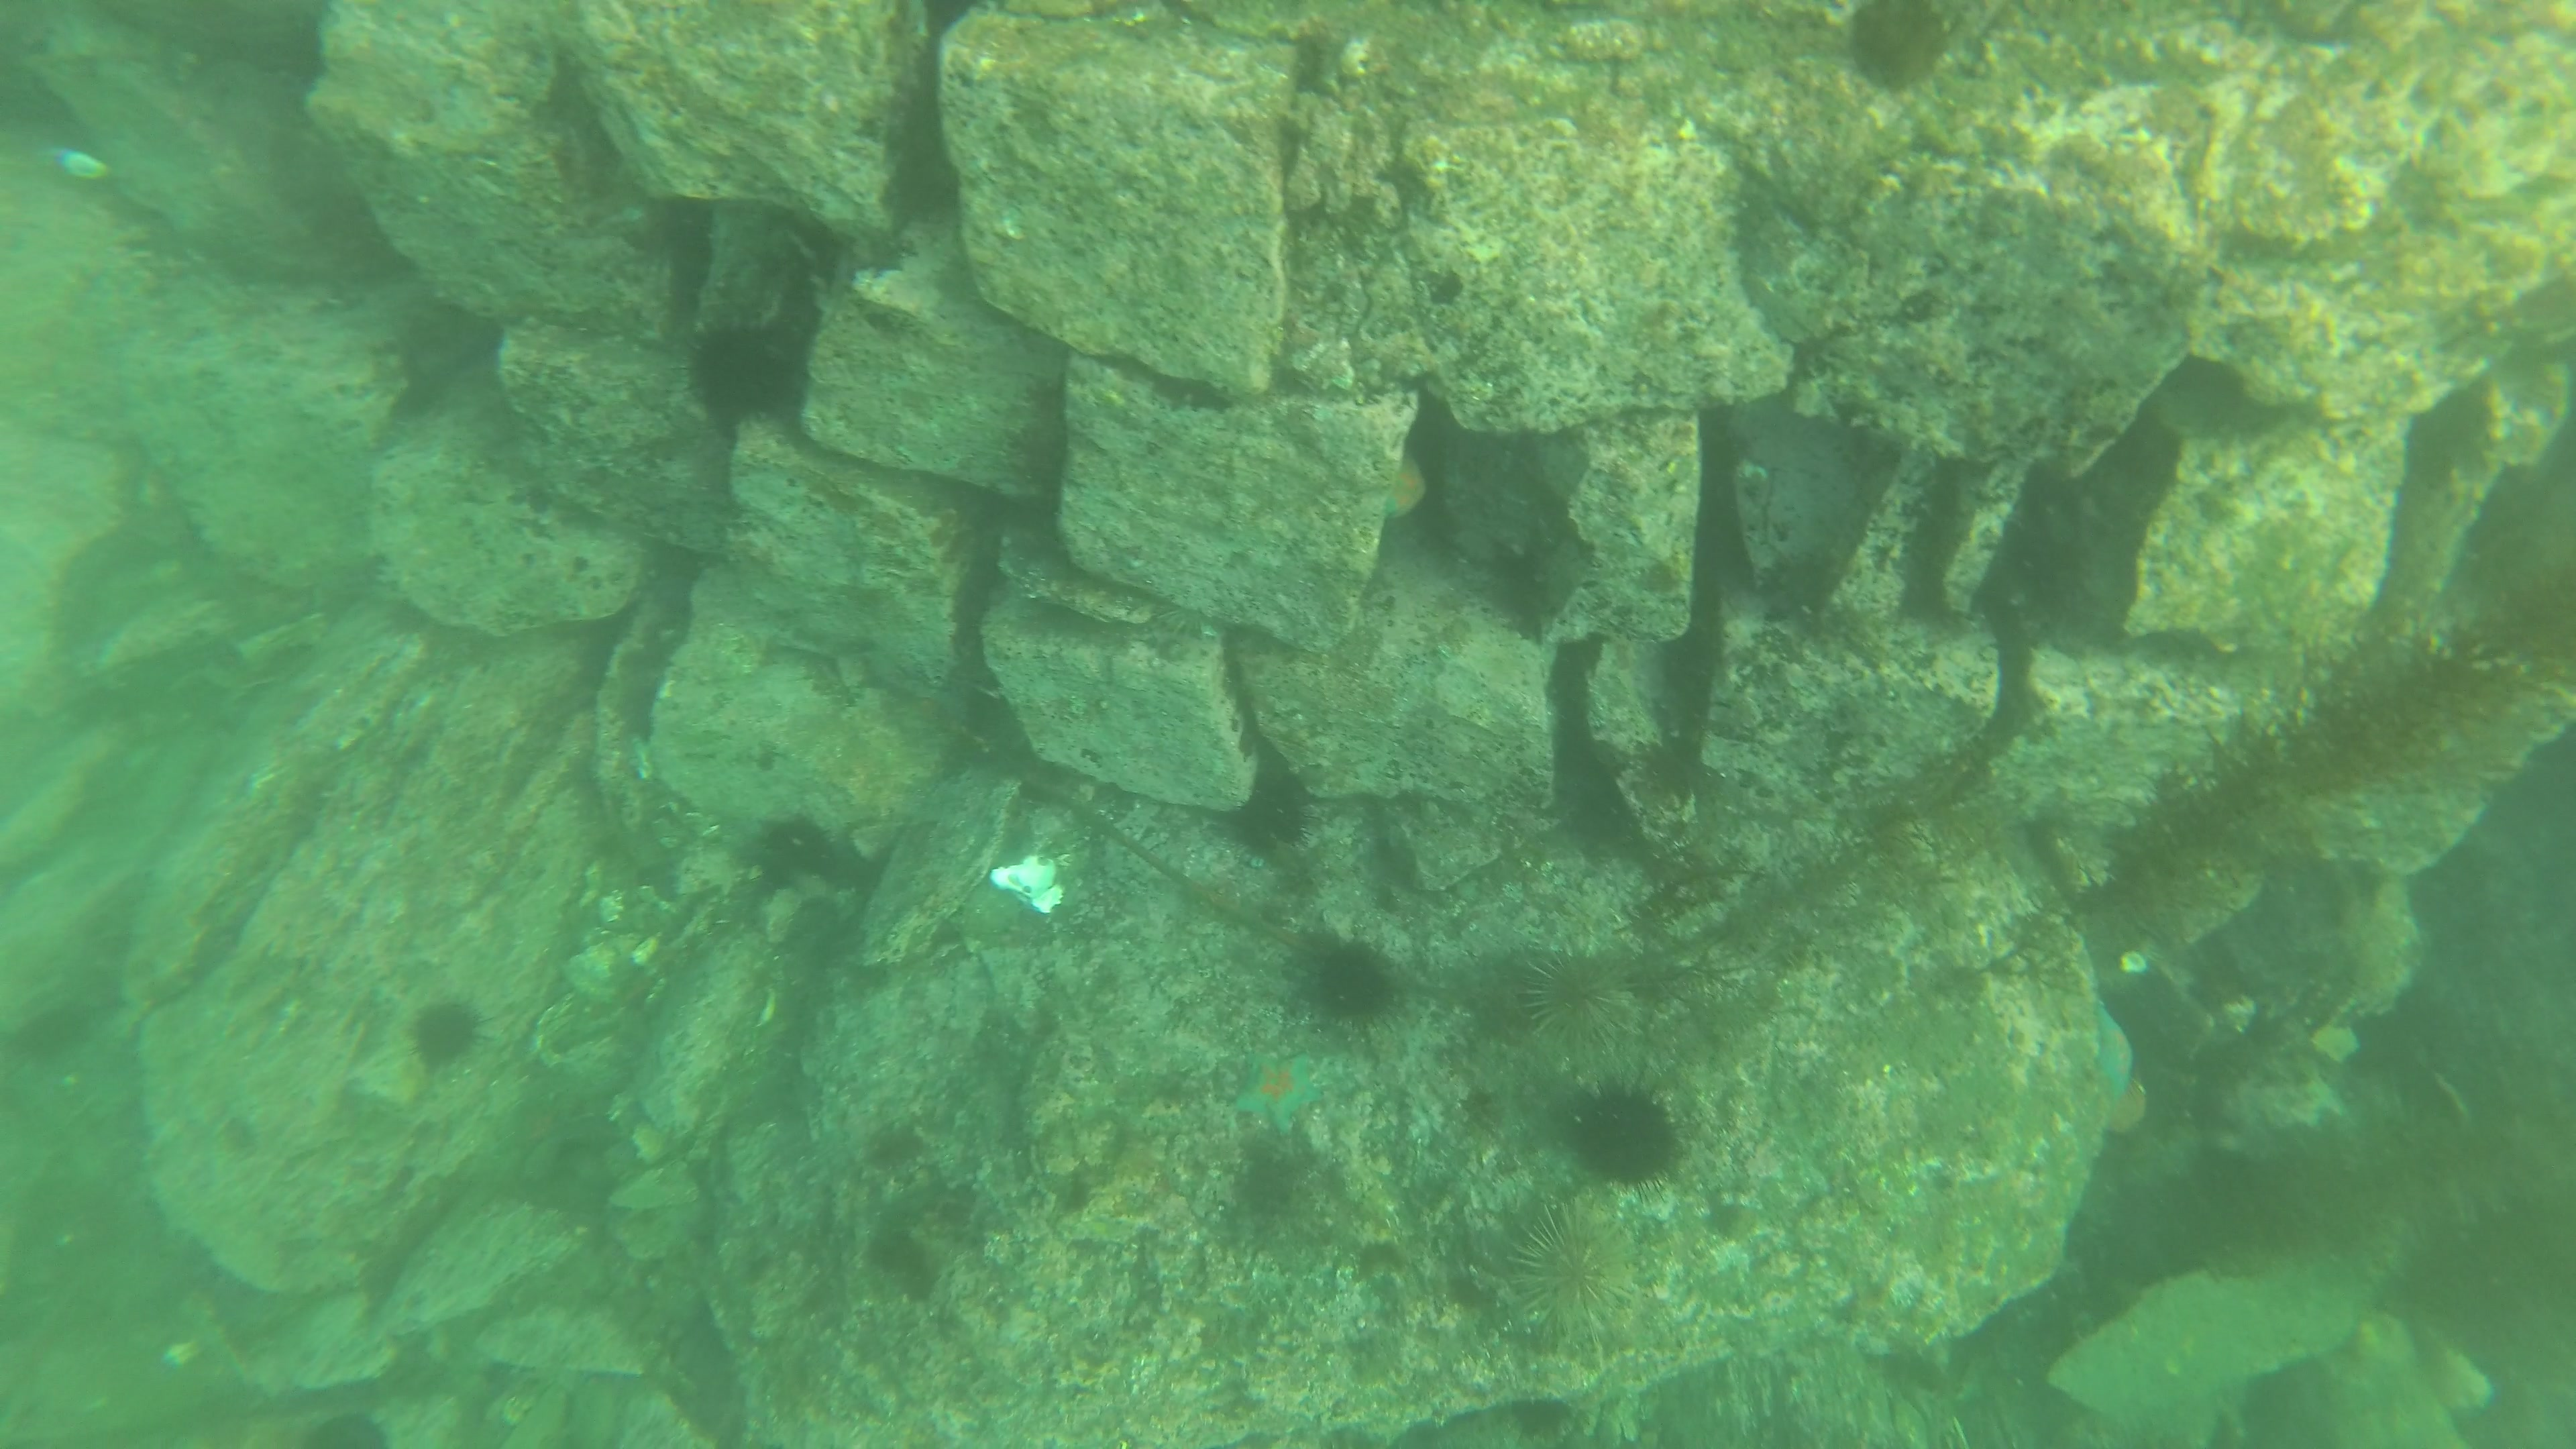echinus: (1497, 1196, 1668, 1380), (1511, 934, 1658, 1065), (1552, 1069, 1704, 1192), (674, 313, 800, 432), (1299, 936, 1405, 1030), (743, 800, 853, 885), (403, 993, 499, 1077), (294, 1407, 400, 1449)
scallop: (985, 842, 1077, 925)
starfish: (1219, 1040, 1330, 1138), (2081, 987, 2143, 1111), (1380, 439, 1431, 527)
